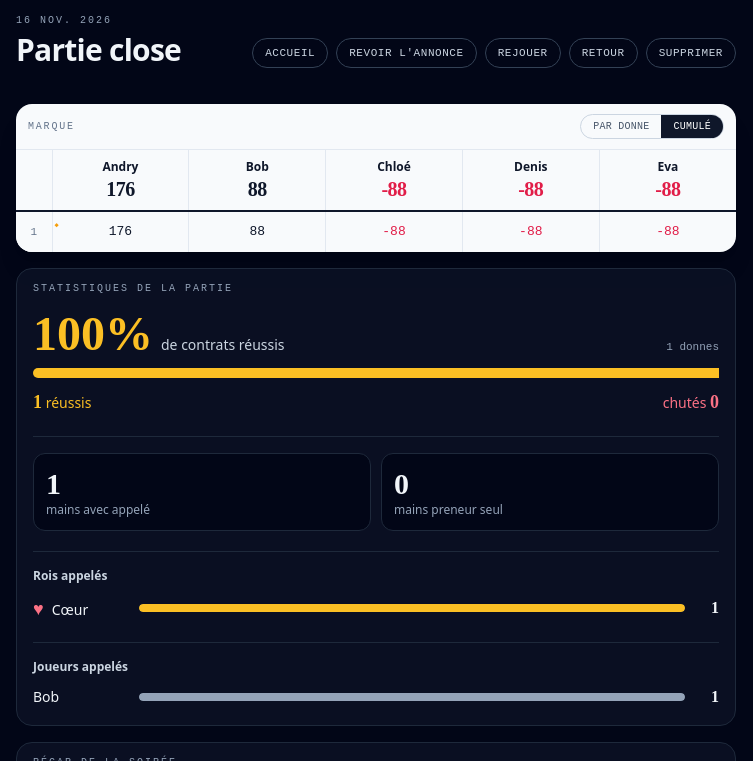
Test: Classement par soirée › l'annonce de fin de partie ajoute la cérémonie de la soirée quand elle compte plusieurs parties
Click the button "Revoir l'annonce": coordinates (406, 53) [336,38,477,68]
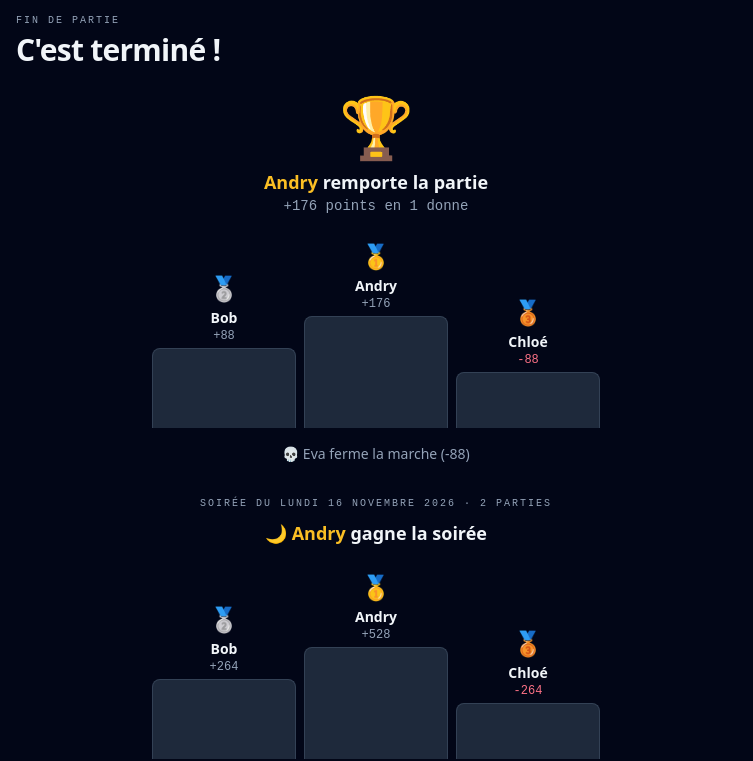
Result: the element with test id "annonce-soiree" shows "Andry gagne la soirée" at [152,498,600,759]
Result: the element with test id "annonce-soiree" shows "2 parties" at [152,498,600,759]
Result: the element with test id "annonce-soiree-podium" is shown at [152,570,600,759]
